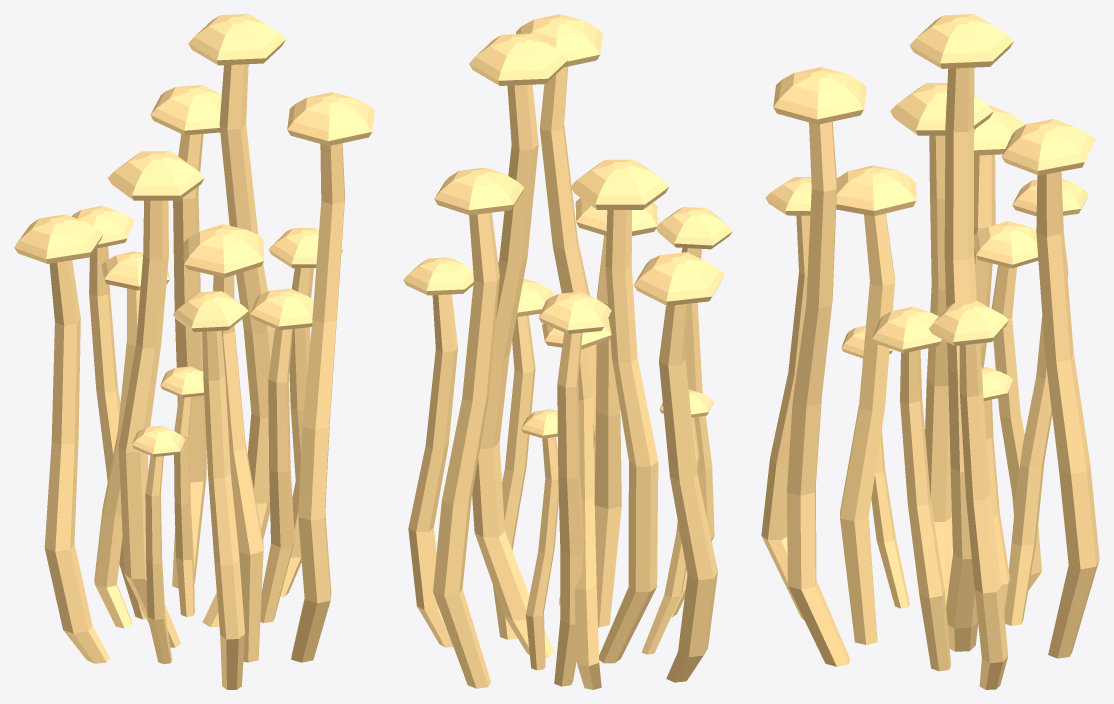
File: EnokiTop.fbx
3 renders of one model, left to right at view 1: azimuth 30°, elevation 25°; view 2: azimuth 150°, elevation 25°; view 3: azimuth 270°, elevation 25°, orthographic. The views are drawn at different scales.
Visible parts, largest first — view 1: Menoki; view 2: Menoki; view 3: Menoki.
Boxes of the visible parts, <box> form: Menoki: <box>14,14,374,689</box>; Menoki: <box>403,14,732,689</box>; Menoki: <box>761,14,1099,689</box>.
Size of the model in its own units: 149 by 274 by 132.
